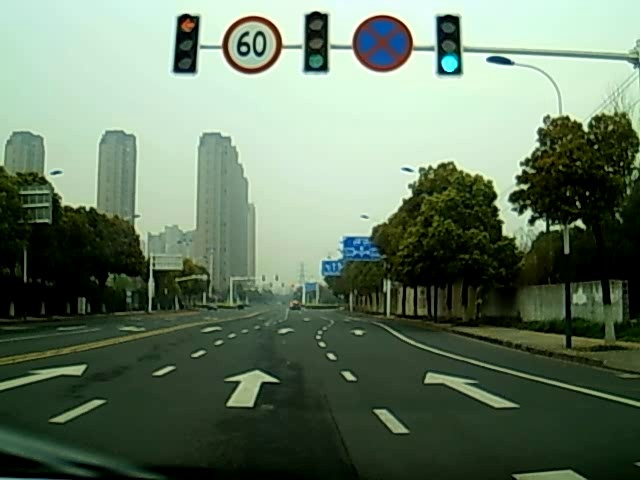Traffic_Light_go: (433, 17, 465, 78), (305, 12, 327, 72)
Traffic_Light_stop: (175, 17, 196, 77)
